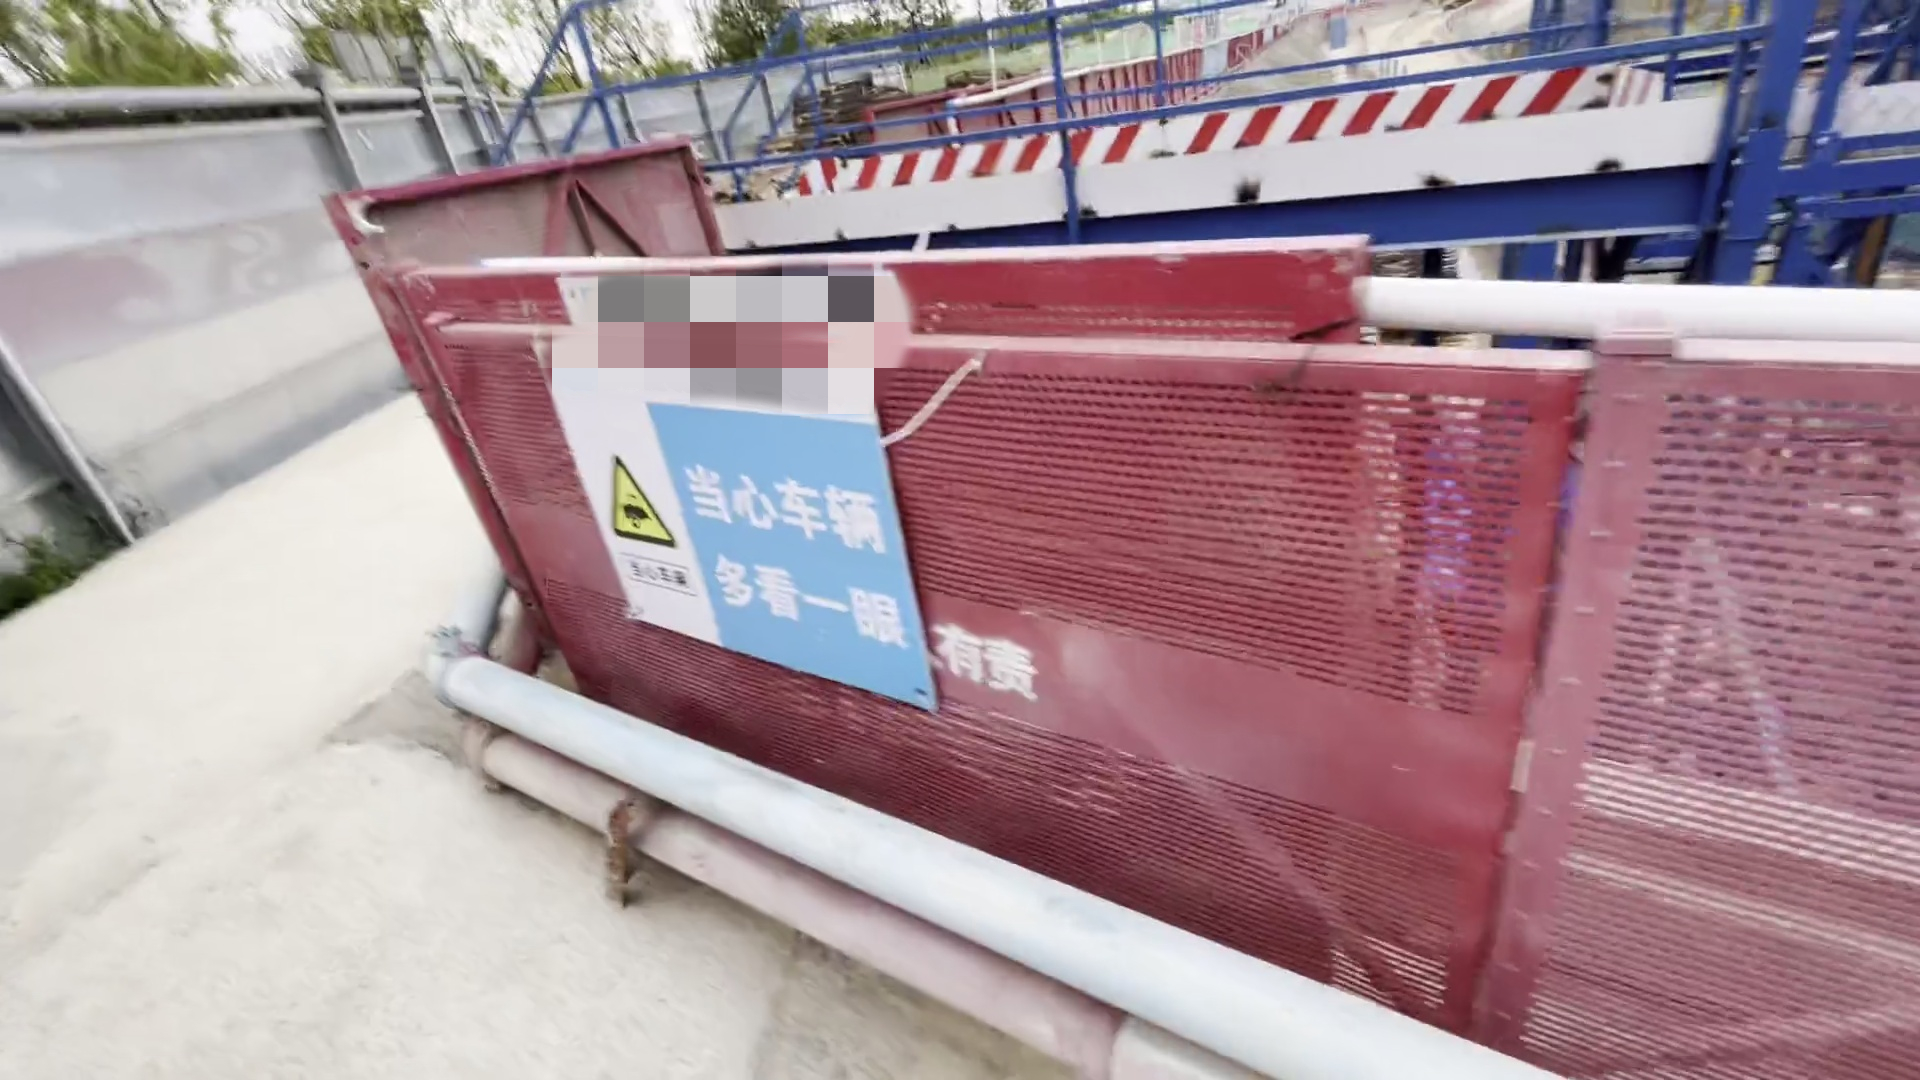fence: (347, 108, 1899, 1063)
slogan: (541, 265, 949, 731)
